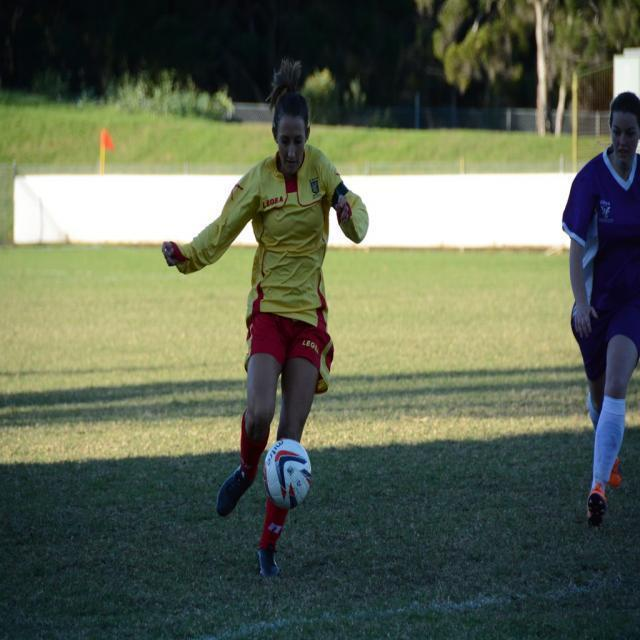ball: (264, 438, 316, 510)
